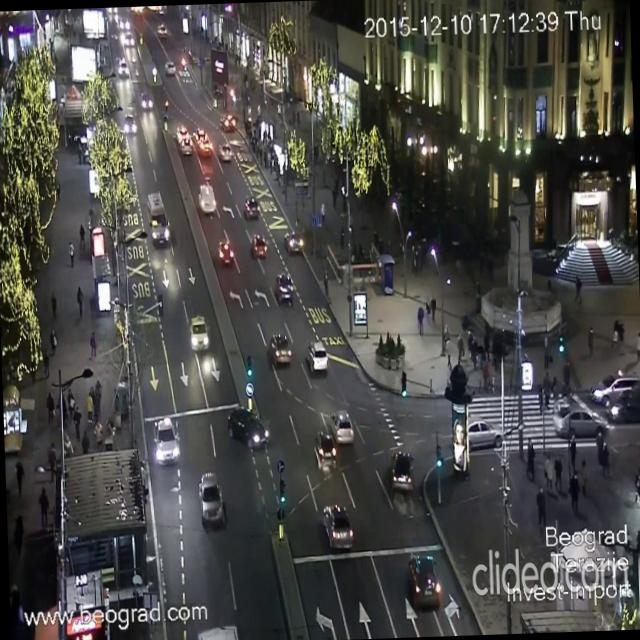bus: (146, 190, 168, 242)
car: (406, 552, 442, 608), (226, 404, 269, 450), (587, 371, 640, 405), (550, 404, 605, 436), (196, 470, 224, 530), (322, 503, 354, 552), (152, 416, 180, 466), (603, 386, 640, 421), (312, 429, 338, 475), (466, 418, 502, 449), (390, 450, 415, 492), (331, 408, 356, 442), (268, 332, 292, 366), (189, 314, 209, 351), (306, 339, 328, 372), (197, 180, 216, 214), (274, 272, 294, 302), (283, 228, 303, 256), (243, 194, 259, 219), (194, 134, 212, 156), (218, 242, 233, 266), (251, 233, 266, 255), (218, 146, 236, 164), (222, 112, 236, 134), (180, 130, 192, 154), (118, 58, 130, 82), (122, 114, 136, 133), (122, 34, 136, 52), (156, 20, 168, 40), (141, 90, 152, 110), (163, 58, 175, 74), (120, 14, 130, 32)
